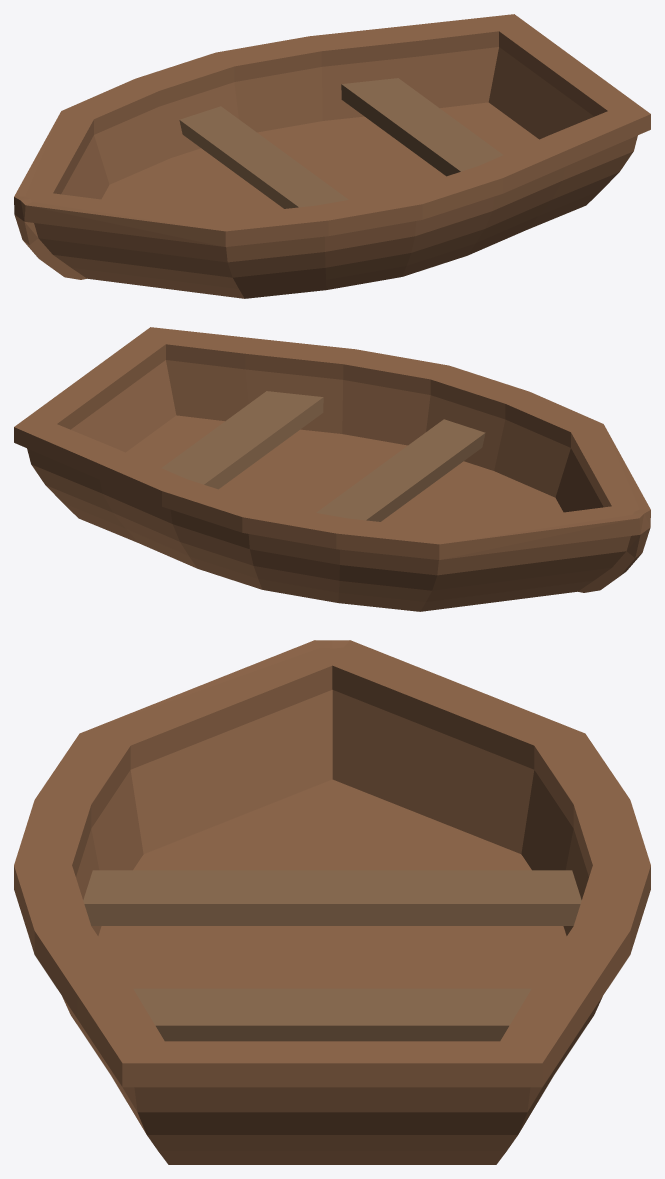
Rendered from boat.fbx.
The picture shows the model from 3 angles, top to bottom: view 1: azimuth 30°, elevation 25°; view 2: azimuth 150°, elevation 25°; view 3: azimuth 270°, elevation 25°; orthographic projection. The views are drawn at different scales.
Visible parts, largest first — view 1: boat; view 2: boat; view 3: boat.
Boxes of the visible parts, x1,y1,x2,y2 form: boat: (14, 14, 650, 298); boat: (14, 327, 650, 611); boat: (14, 640, 650, 1164).
Size of the model in its own units: 392 by 60.51 by 250.
